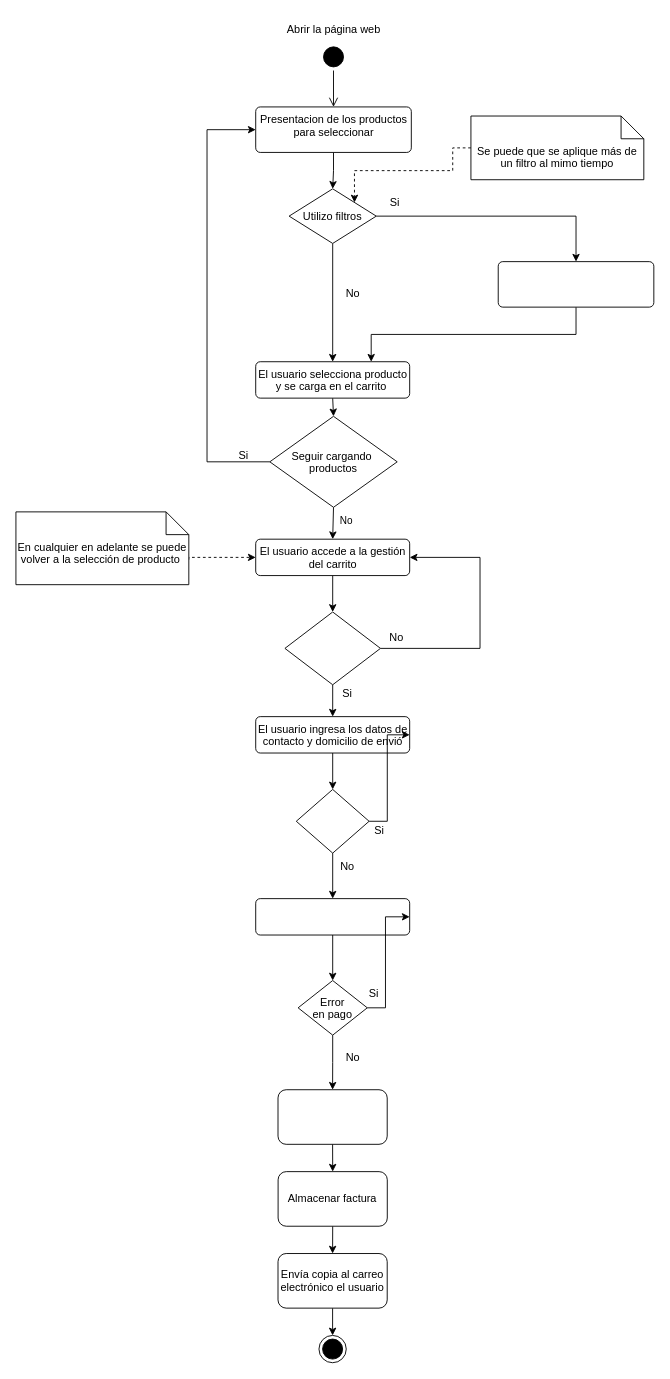
This 670x1379 diagram has some shape labels left out. Each missing label, with the centre of its shape:
El usuario completa pago con el medio seleccionado: the point at 332,916
Emitir factura: the point at 332,1116
Error en datos: the point at 332,821
Se reduce los productos mostrados a las preferencias del usuario: the point at 575,284
Terminó la gestión: the point at 332,648
